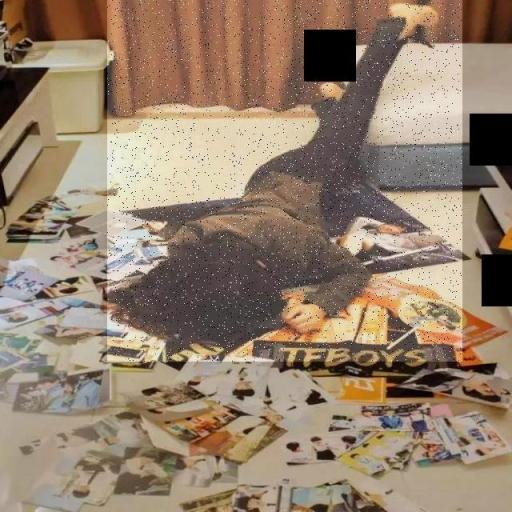Fall: (108, 0, 463, 362)
